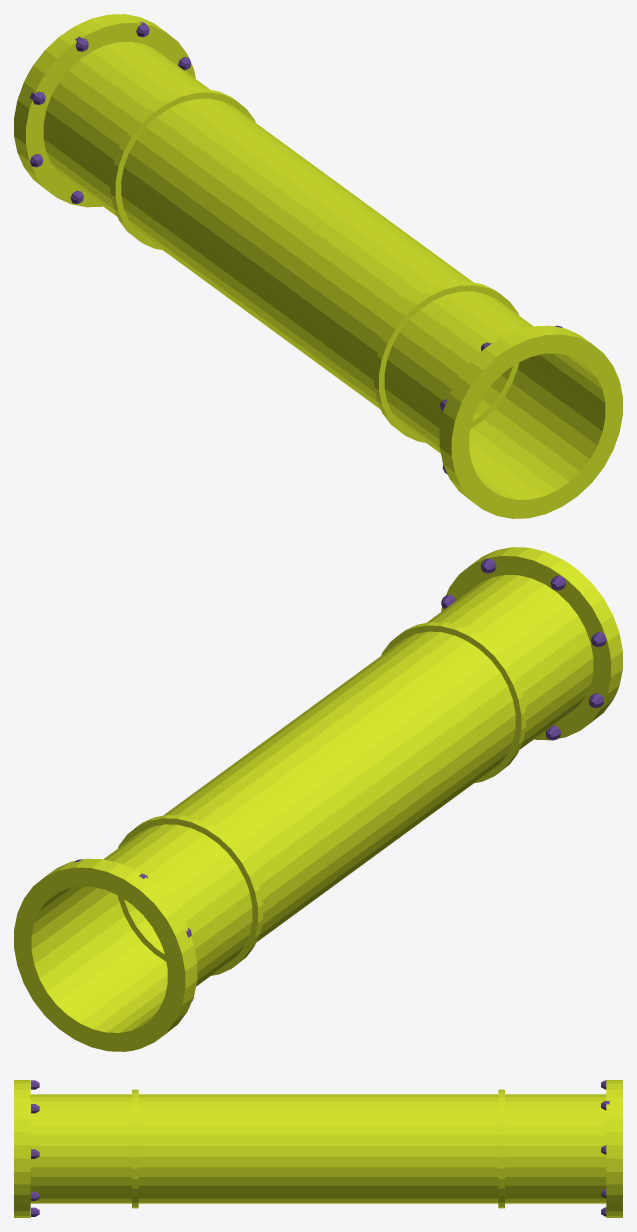
Rendered from Longo_Nerfado_Anim.fbx.
3 views of the same model, one above another, from view 1: azimuth 30°, elevation 25°; view 2: azimuth 150°, elevation 25°; view 3: azimuth 270°, elevation 25° (orthographic). The views are drawn at different scales.
Visible parts, largest first — view 1: Cano; view 2: Cano; view 3: Cano.
Part boxes in pixels (x1,y1,x2,y2): Cano: (14, 14, 622, 518); Cano: (14, 547, 622, 1051); Cano: (14, 1080, 622, 1217).
Bounding box in the file's own units: 2.26 × 2.26 × 10.
